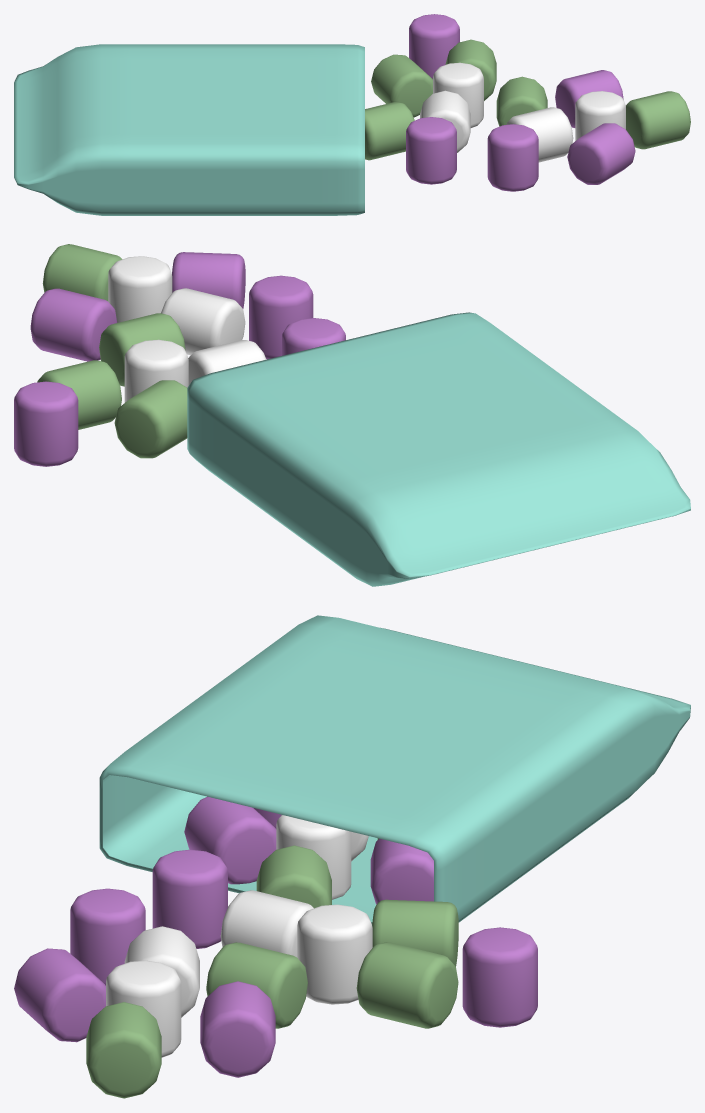
The model's file is Marshmallow_227.obj.
3 views of the same model, one above another, from view 1: azimuth 30°, elevation 25°; view 2: azimuth 150°, elevation 25°; view 3: azimuth 270°, elevation 25° (orthographic). The views are drawn at different scales.
Parts seen in each view (by area): view 1: Box001, ChamferCyl001, ChamferCyl020, ChamferCyl003, ChamferCyl006, ChamferCyl009, ChamferCyl011, ChamferCyl019, ChamferCyl002, ChamferCyl007, ChamferCyl004, ChamferCyl008 (+3 smaller); view 2: Box001, ChamferCyl011, ChamferCyl005, ChamferCyl009, ChamferCyl001, ChamferCyl002, ChamferCyl004, ChamferCyl010, ChamferCyl003, ChamferCyl006, ChamferCyl007, ChamferCyl008 (+2 smaller); view 3: Box001, ChamferCyl010, ChamferCyl011, ChamferCyl020, ChamferCyl007, ChamferCyl003, ChamferCyl005, ChamferCyl006, ChamferCyl013, ChamferCyl001, ChamferCyl008, ChamferCyl004 (+6 smaller).
Part boxes in pixels (left/top/right/bottom): Box001: left=14, top=44, right=364, bottom=215; ChamferCyl001: left=487, top=124, right=538, bottom=191; ChamferCyl020: left=406, top=117, right=456, bottom=184; ChamferCyl003: left=567, top=123, right=635, bottom=184; ChamferCyl006: left=626, top=91, right=690, bottom=149; ChamferCyl009: left=371, top=54, right=432, bottom=117; ChamferCyl011: left=409, top=14, right=459, bottom=78; ChamferCyl019: left=365, top=102, right=414, bottom=160; ChamferCyl002: left=506, top=107, right=573, bottom=162; ChamferCyl007: left=433, top=62, right=483, bottom=127; ChamferCyl004: left=575, top=91, right=625, bottom=140; ChamferCyl008: left=496, top=76, right=547, bottom=126; Box001: left=187, top=312, right=690, bottom=586; ChamferCyl011: left=14, top=381, right=78, bottom=466; ChamferCyl005: left=30, top=288, right=117, bottom=361; ChamferCyl009: left=114, top=380, right=187, bottom=458; ChamferCyl001: left=249, top=275, right=313, bottom=359; ChamferCyl002: left=161, top=288, right=245, bottom=355; ChamferCyl004: left=108, top=256, right=172, bottom=322; ChamferCyl010: left=37, top=360, right=121, bottom=429; ChamferCyl003: left=172, top=252, right=245, bottom=308; ChamferCyl006: left=42, top=244, right=122, bottom=301; ChamferCyl007: left=124, top=339, right=188, bottom=402; ChamferCyl008: left=99, top=313, right=185, bottom=386; Box001: left=99, top=615, right=690, bottom=925; ChamferCyl010: left=356, top=942, right=458, bottom=1028; ChamferCyl011: left=462, top=927, right=537, bottom=1027; ChamferCyl020: left=152, top=849, right=227, bottom=948; ChamferCyl007: left=297, top=904, right=372, bottom=1004; ChamferCyl003: left=14, top=948, right=105, bottom=1042; ChamferCyl005: left=200, top=981, right=275, bottom=1077; ChamferCyl006: left=86, top=1002, right=161, bottom=1098; ChamferCyl013: left=184, top=796, right=276, bottom=884; ChamferCyl001: left=70, top=888, right=145, bottom=985; ChamferCyl008: left=206, top=942, right=307, bottom=1028; ChamferCyl004: left=106, top=960, right=181, bottom=1057.
Size of the model in its own units: 129 by 14.87 by 87.35.
